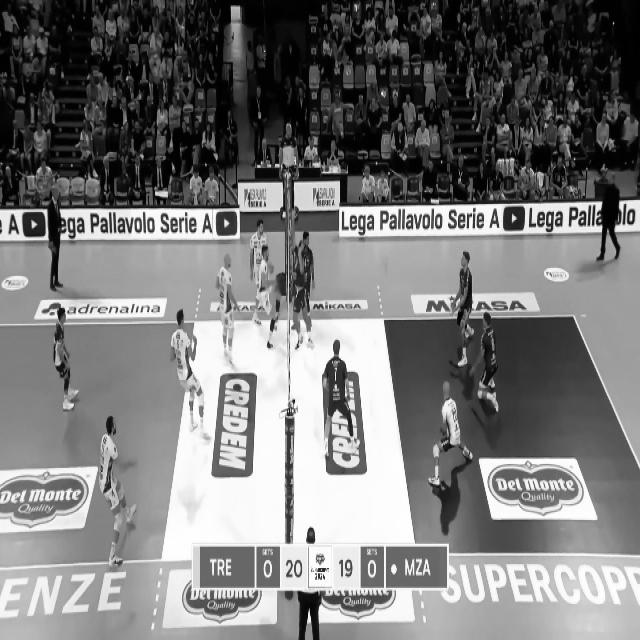volleyball court: (1, 314, 640, 565)
